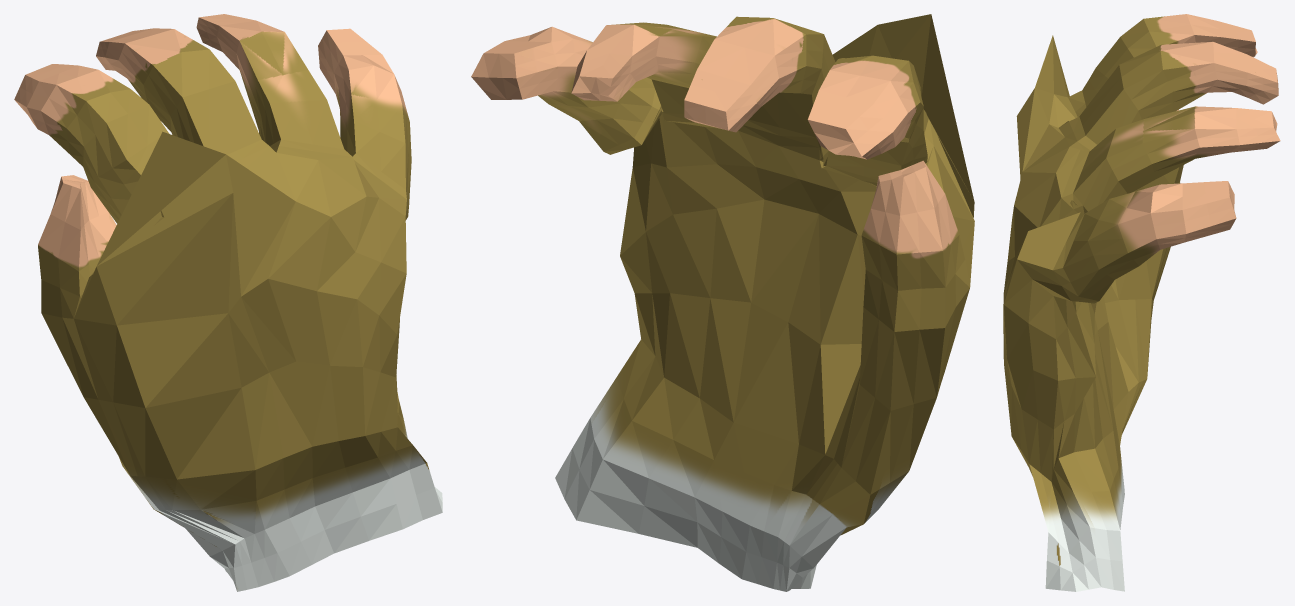
File: grip0039.obj
3 views of the same model, side by side, from view 1: azimuth 30°, elevation 25°; view 2: azimuth 150°, elevation 25°; view 3: azimuth 270°, elevation 25° (orthographic). The views are drawn at different scales.
Visible parts, largest first — view 1: Hand; view 2: Hand; view 3: Hand.
Boxes of the visible parts, x1=… form: Hand: x1=14, y1=14, x2=442, y2=591; Hand: x1=471, y1=14, x2=974, y2=591; Hand: x1=1003, y1=14, x2=1280, y2=591.
Size of the model in its own units: 2.87 by 3.85 by 1.98.
